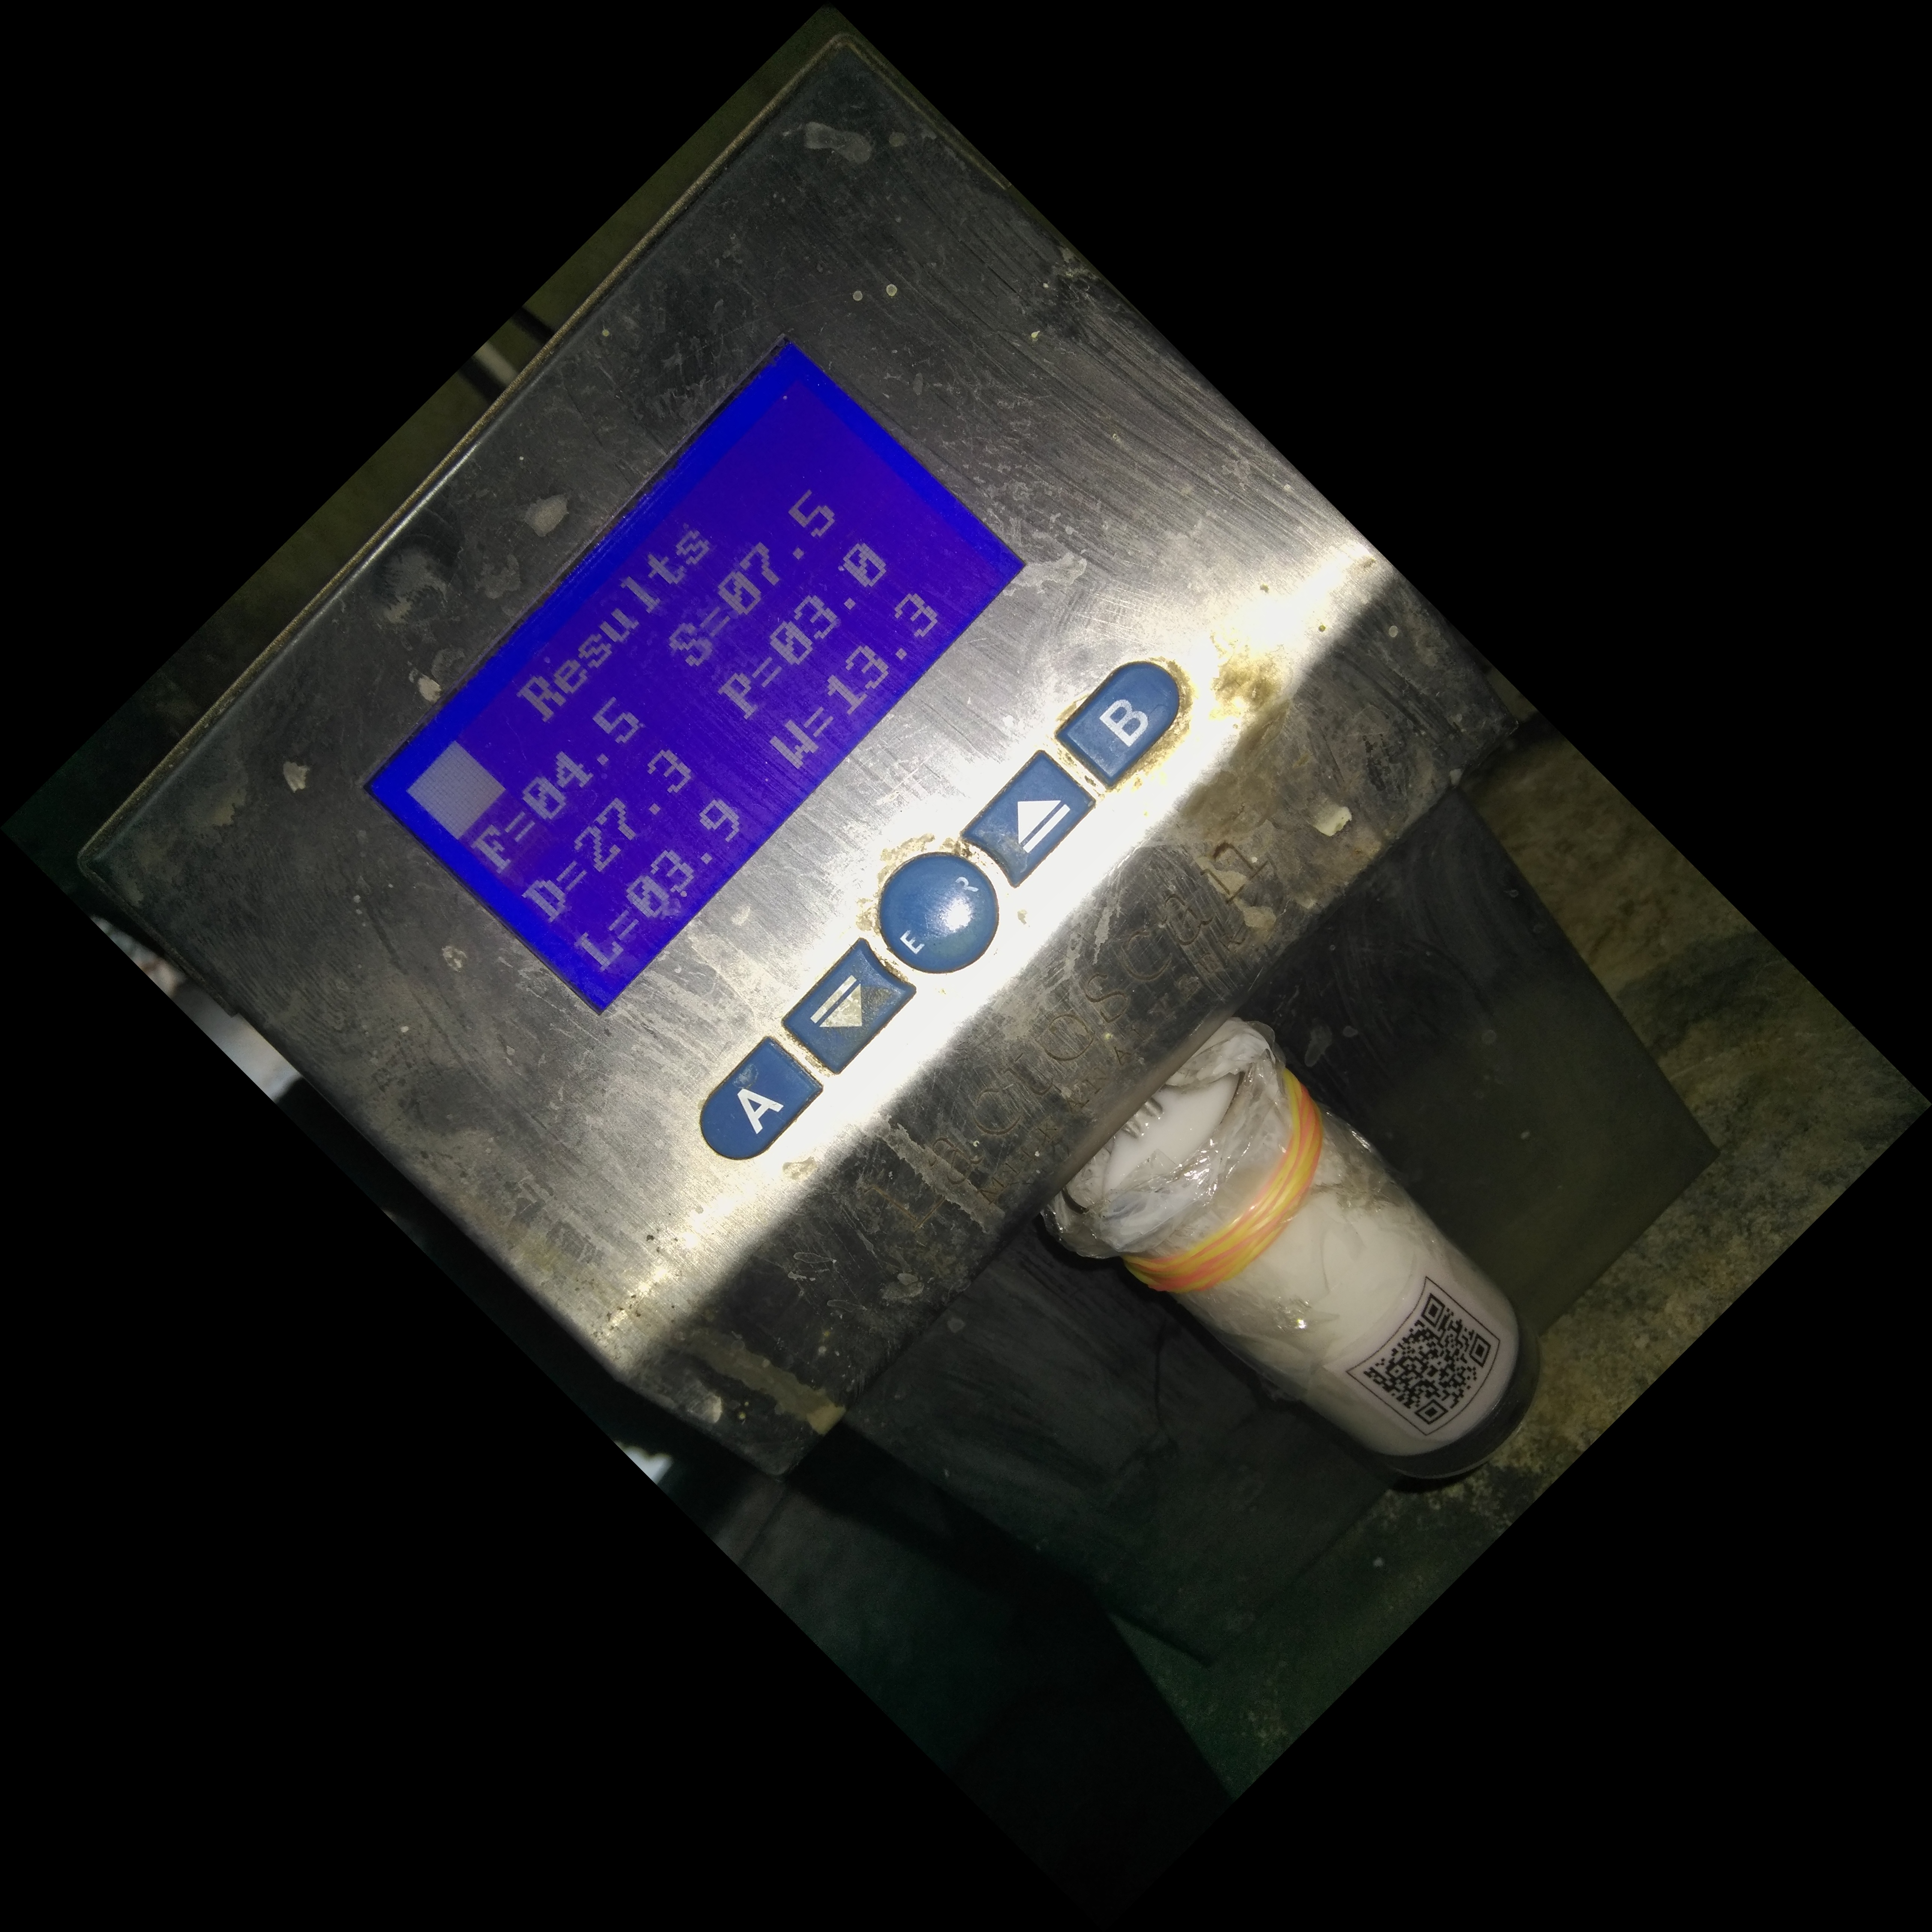lcd: (329, 338, 1049, 1031)
qr: (1343, 1270, 1511, 1460)
